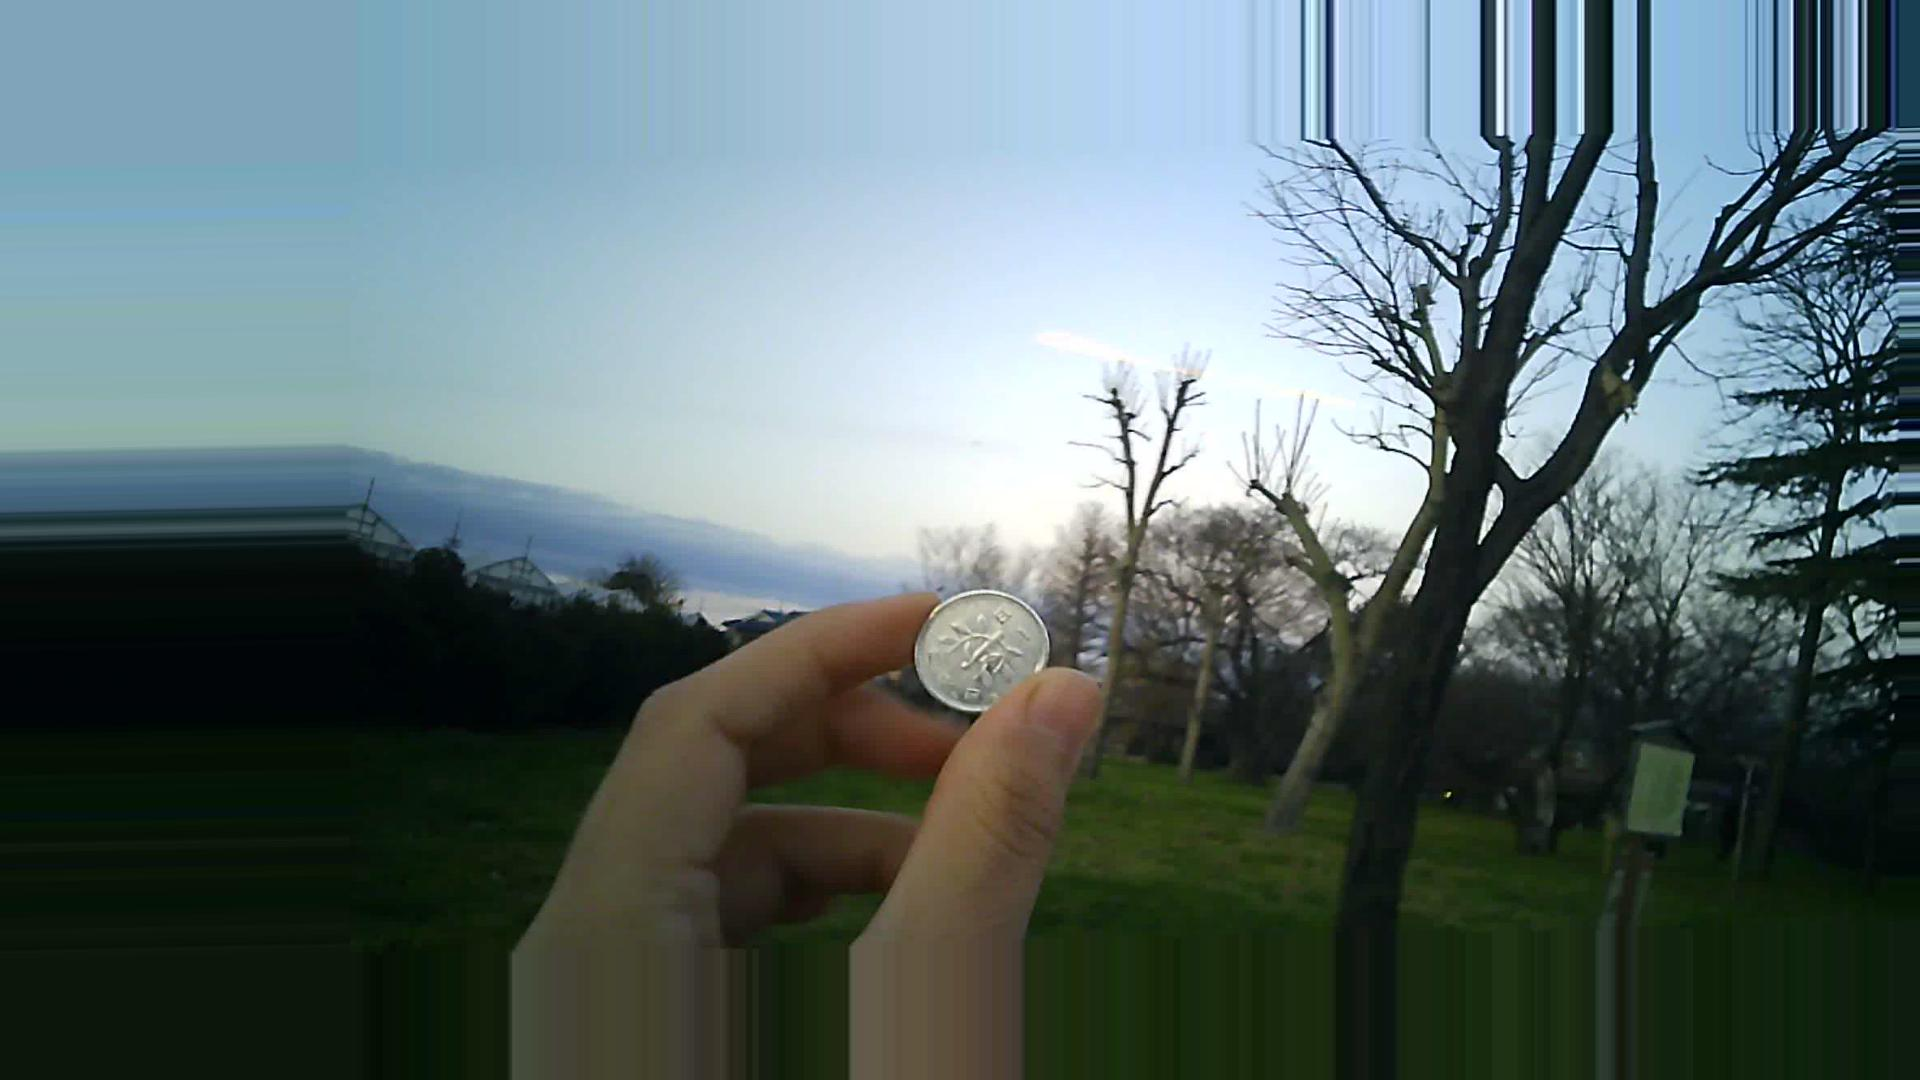1 Yen: (903, 579, 1055, 732)
